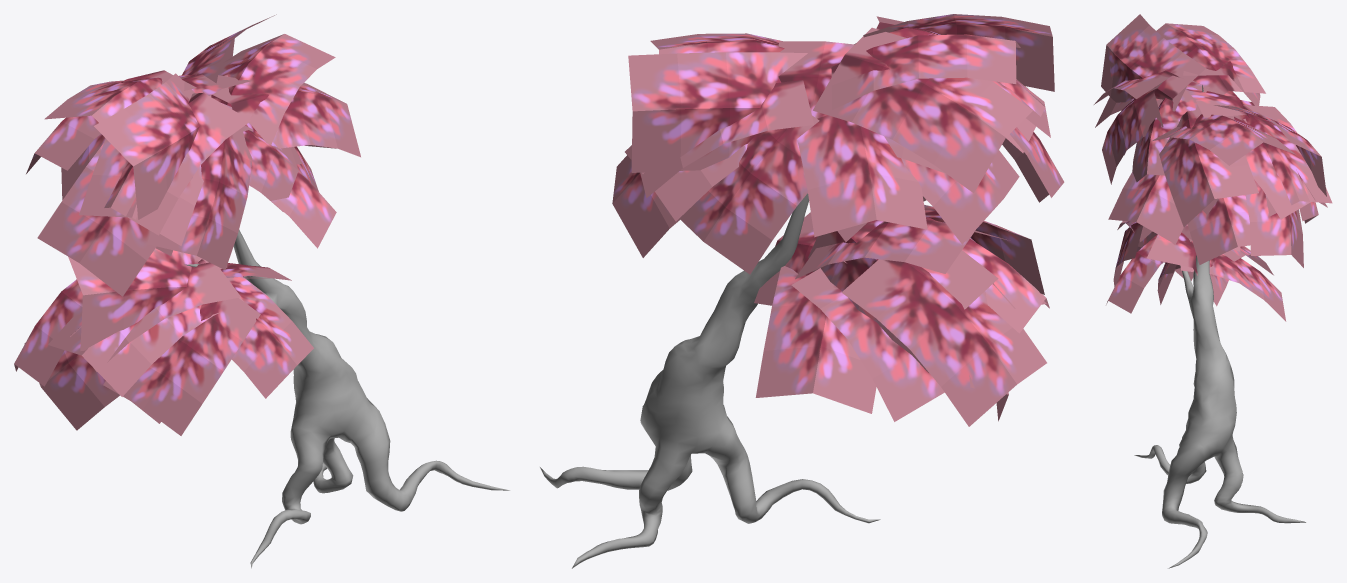
The model's file is MSH_Tree_1.fbx.
3 views of the same model, side by side, from view 1: azimuth 30°, elevation 25°; view 2: azimuth 150°, elevation 25°; view 3: azimuth 270°, elevation 25° (orthographic). The views are drawn at different scales.
Parts seen in each view (by area): view 1: Leaves_4_group1_Leaves_1_02, Tree_Low1; view 2: Leaves_4_group1_Leaves_1_02, Tree_Low1; view 3: Leaves_4_group1_Leaves_1_02, Tree_Low1.
Part boxes in pixels (<box>): Leaves_4_group1_Leaves_1_02: <box>14,14,360,435</box>; Tree_Low1: <box>184,229,509,568</box>; Leaves_4_group1_Leaves_1_02: <box>612,14,1064,426</box>; Tree_Low1: <box>540,193,880,568</box>; Leaves_4_group1_Leaves_1_02: <box>1094,14,1332,321</box>; Tree_Low1: <box>1134,85,1305,568</box>.
Bounding box in the file's own units: 397 × 400 × 222.
